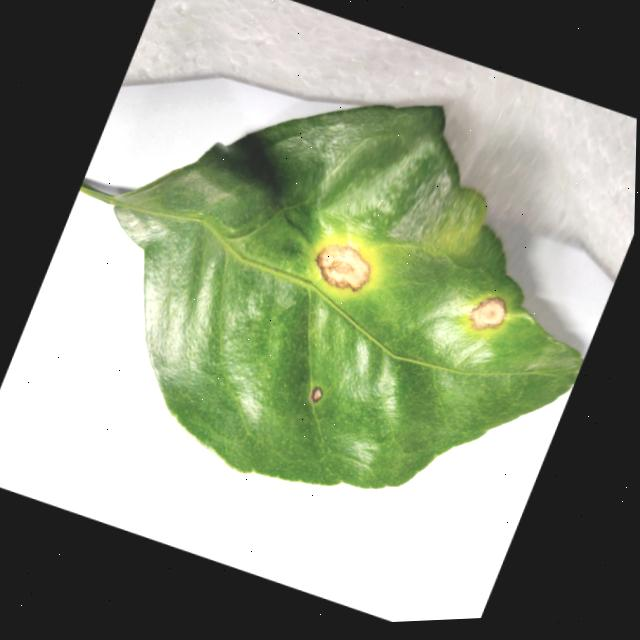antracnose: (80, 106, 581, 488), (316, 244, 370, 291), (470, 298, 505, 329), (309, 386, 322, 403)
